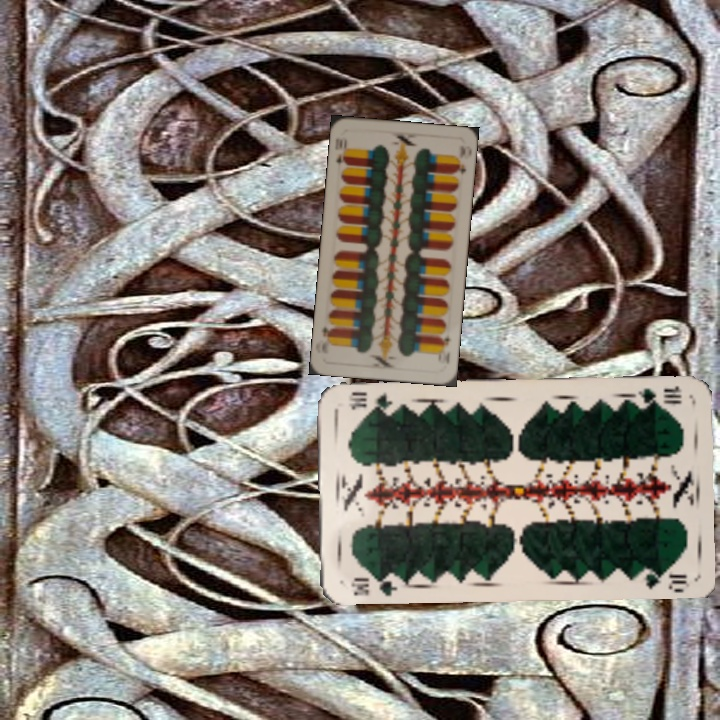E10: (331, 134, 350, 168), (436, 331, 452, 357)
G10: (347, 571, 400, 599), (629, 381, 685, 407)
